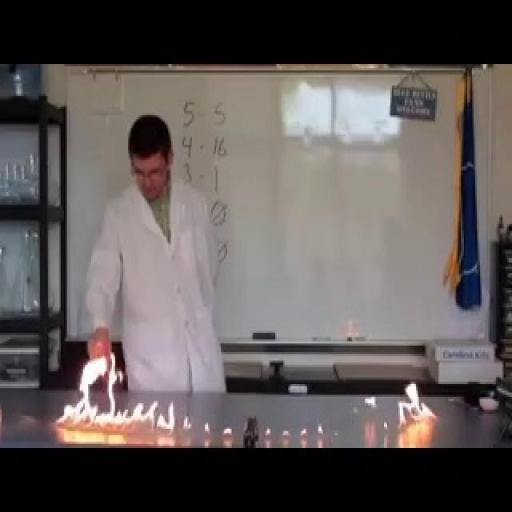smoke: (48, 358, 174, 444), (393, 380, 439, 430)
